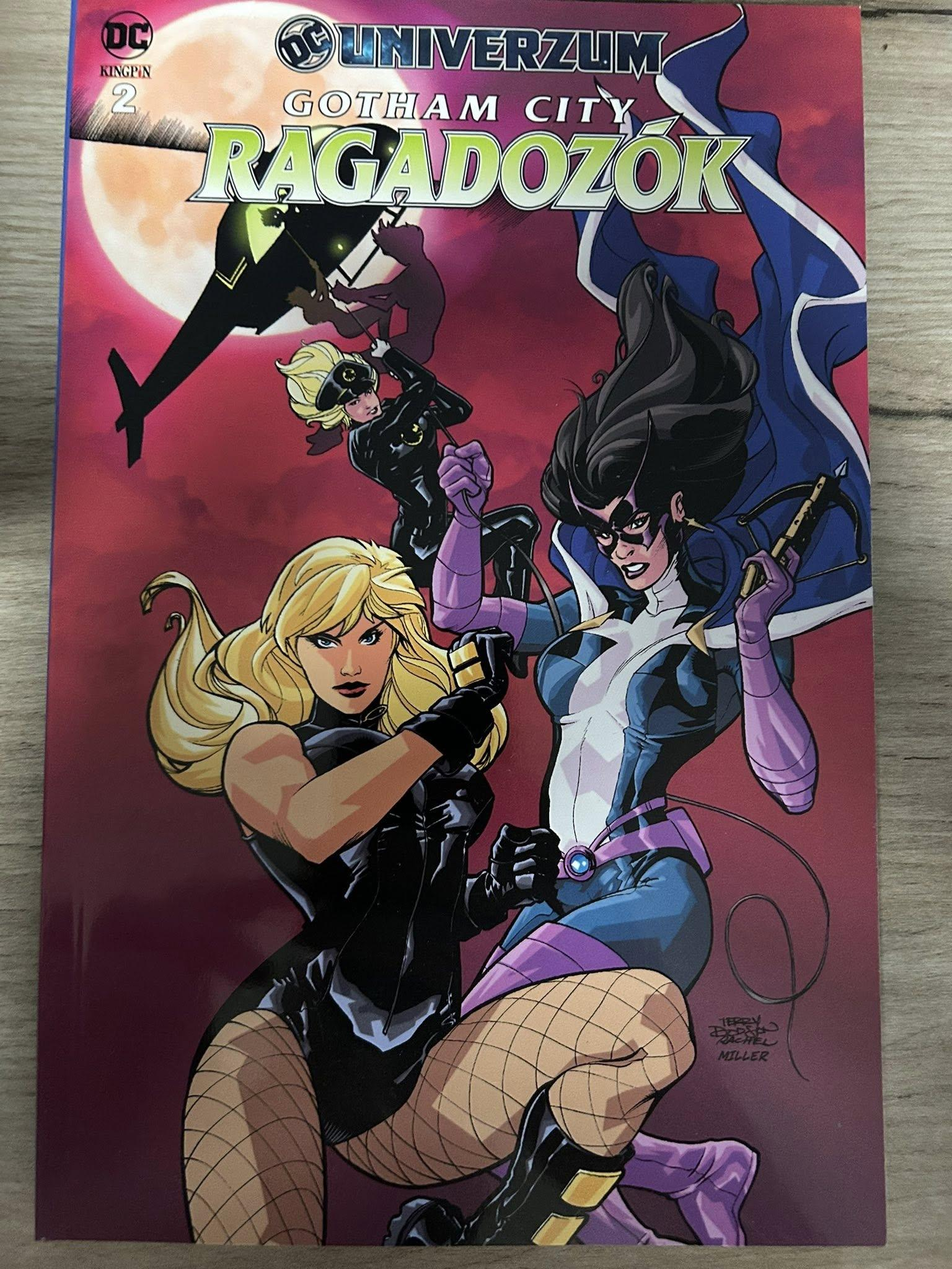comic: (38, 0, 884, 1245)
